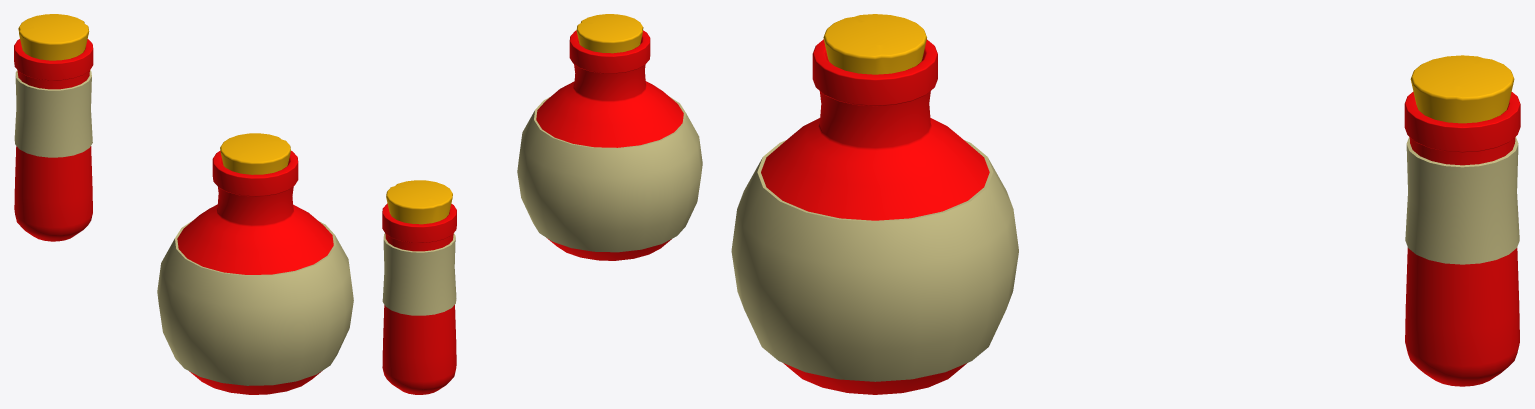
The model's file is health_pickups.fbx.
The picture shows the model from 3 angles, left to right: view 1: azimuth 30°, elevation 25°; view 2: azimuth 150°, elevation 25°; view 3: azimuth 270°, elevation 25°; orthographic projection. The views are drawn at different scales.
Visible parts, largest first — view 1: polySurface2, polySurface1, vial, label, stopper, stopper1, polySurface3; view 2: polySurface2, polySurface1, vial, label, stopper, stopper1, polySurface3; view 3: polySurface2, polySurface1, vial, label, stopper, stopper1, polySurface3.
Boxes of the visible parts, x1,y1,x2,y2 form: polySurface2: [157, 220, 353, 385]; polySurface1: [177, 150, 333, 274]; vial: [14, 39, 93, 241]; label: [14, 70, 92, 157]; stopper: [18, 14, 89, 60]; stopper1: [220, 133, 290, 174]; polySurface3: [189, 371, 321, 394]; polySurface2: [517, 96, 702, 252]; polySurface1: [536, 30, 683, 147]; vial: [382, 203, 456, 394]; label: [382, 233, 456, 315]; stopper: [386, 180, 452, 224]; stopper1: [576, 14, 643, 53]; polySurface3: [547, 238, 671, 260]; polySurface2: [731, 140, 1018, 381]; polySurface1: [761, 39, 989, 220]; vial: [1404, 91, 1520, 386]; label: [1405, 137, 1519, 264]; stopper: [1410, 55, 1514, 123]; stopper1: [823, 14, 926, 74]; polySurface3: [783, 363, 966, 394].
Bounding box in the file's own units: 59.7 × 79.96 × 164.
